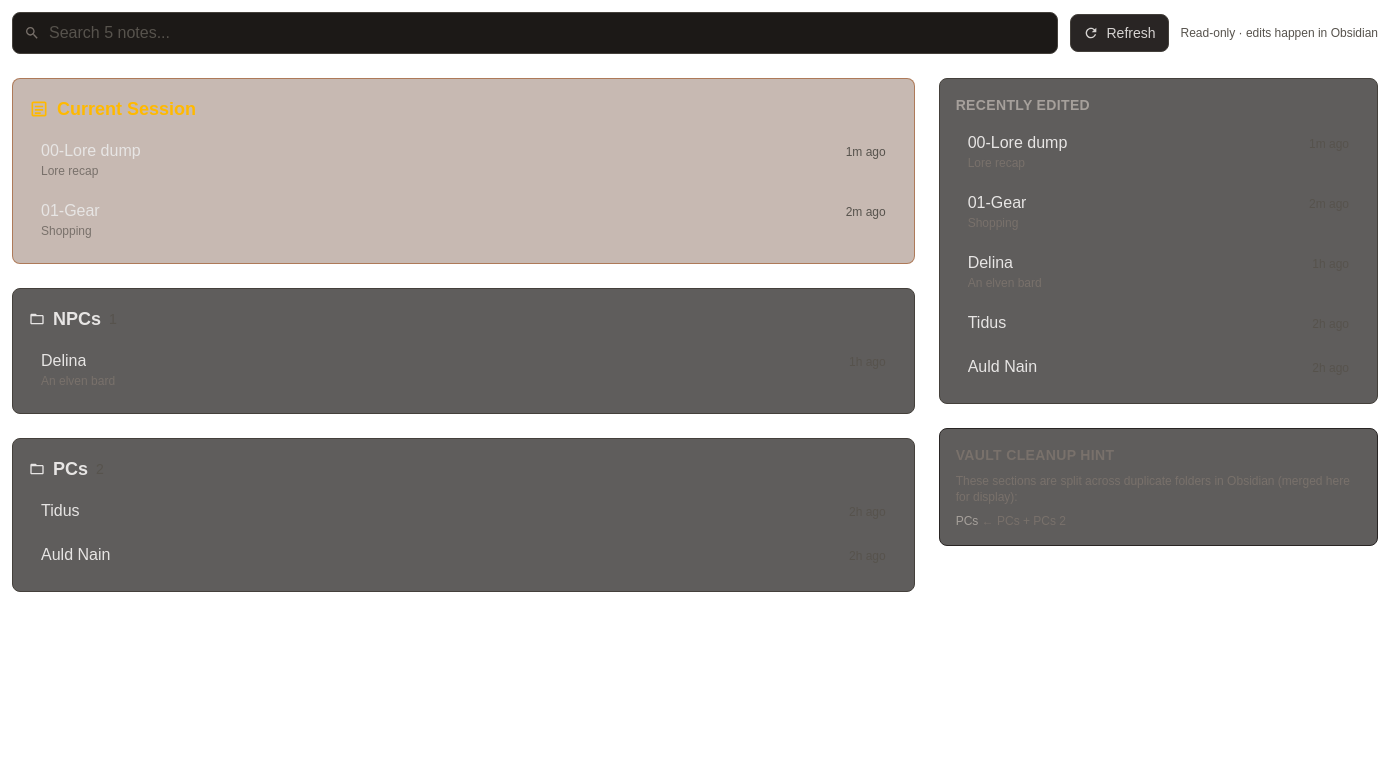
Test: VaultTab › filters notes by search query
In the field with placeholder "Search 5 notes...": (535, 33) [12,12,1058,54], type "delina"
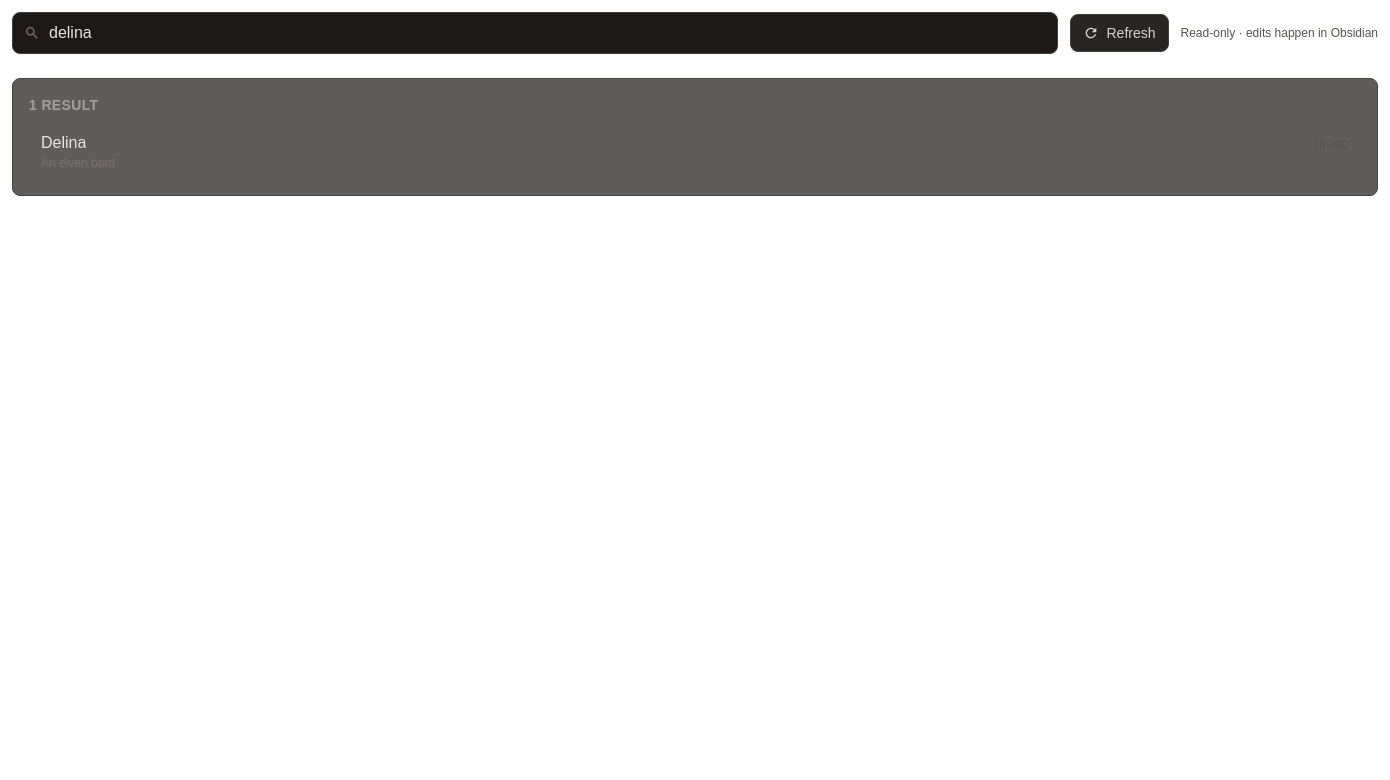
Expected: the text "Delina" is shown, [41,131,86,155]
Now the heading "1 result" is shown, box [29,97,98,113]
Now the button "Tidus" is gone
